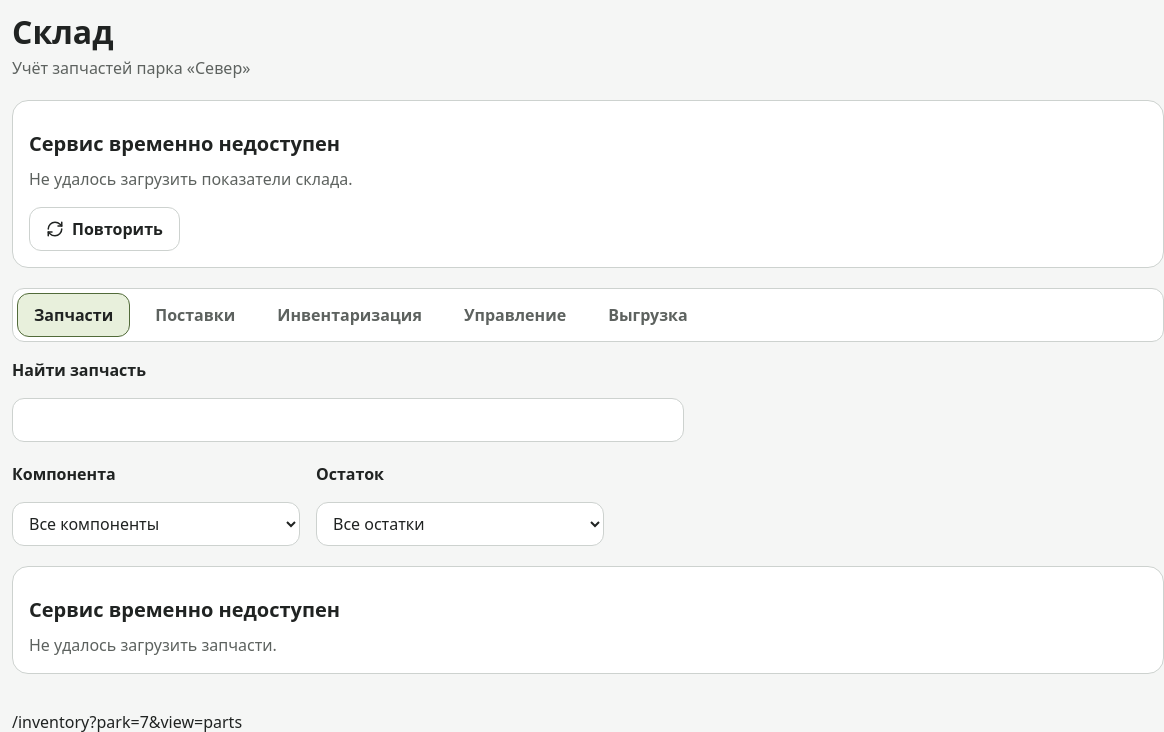
inventory URL tabs › keeps parts loading failures inside the active panel while tabs stay usable
Expected: the panel shows "Сервис временно недоступен", [29,596,340,623]
Click the tab "Выгрузка" at (648, 315), box [591,293,705,337]
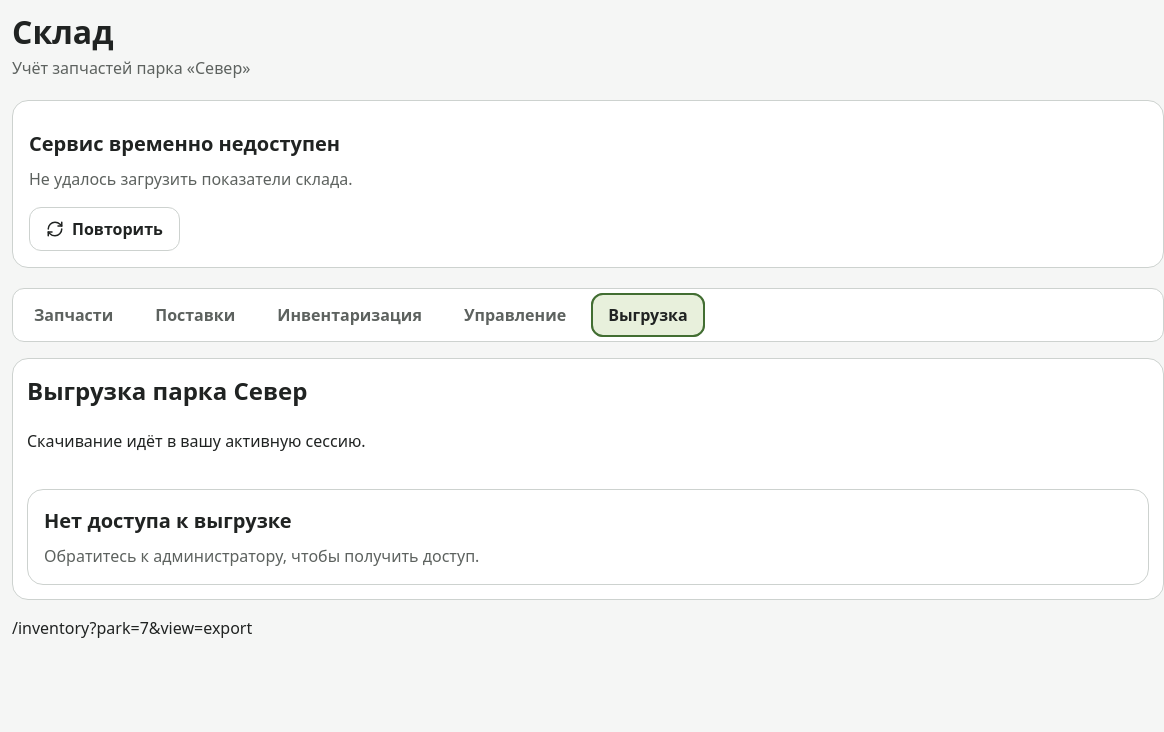
Expected: the panel shows "Выгрузка парка Север", [12,342,1163,616]
